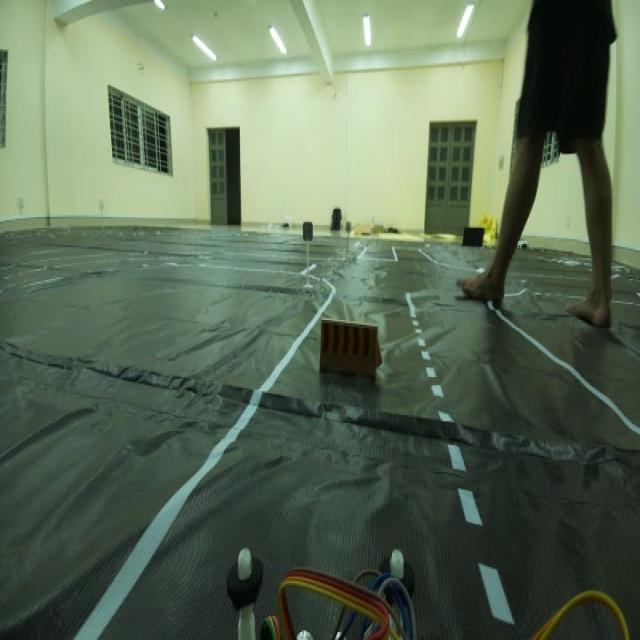roadblock: (318, 311, 385, 396)
